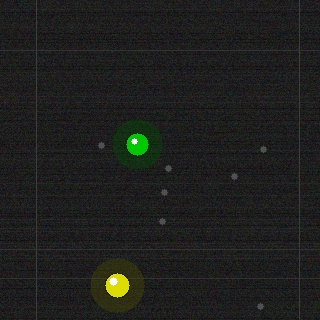green_normal: (124, 131, 150, 157)
yellow_warning: (103, 271, 131, 299)
